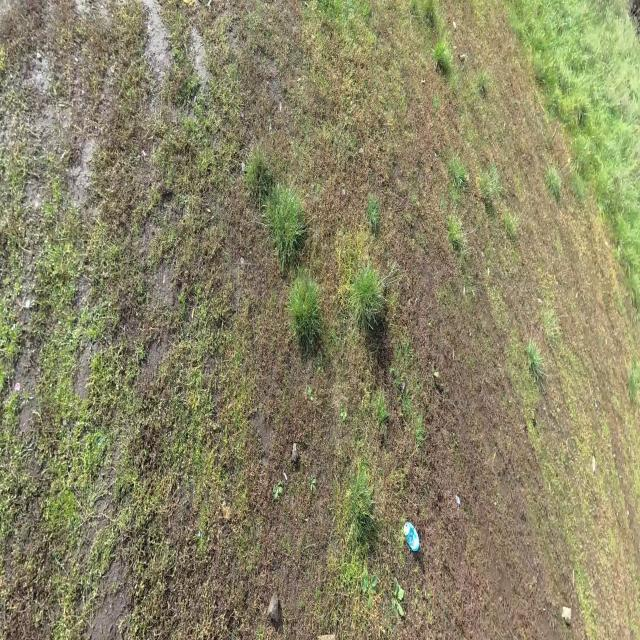rubbish: (403, 521, 420, 551), (561, 604, 571, 626), (316, 633, 336, 640), (454, 493, 461, 508)
